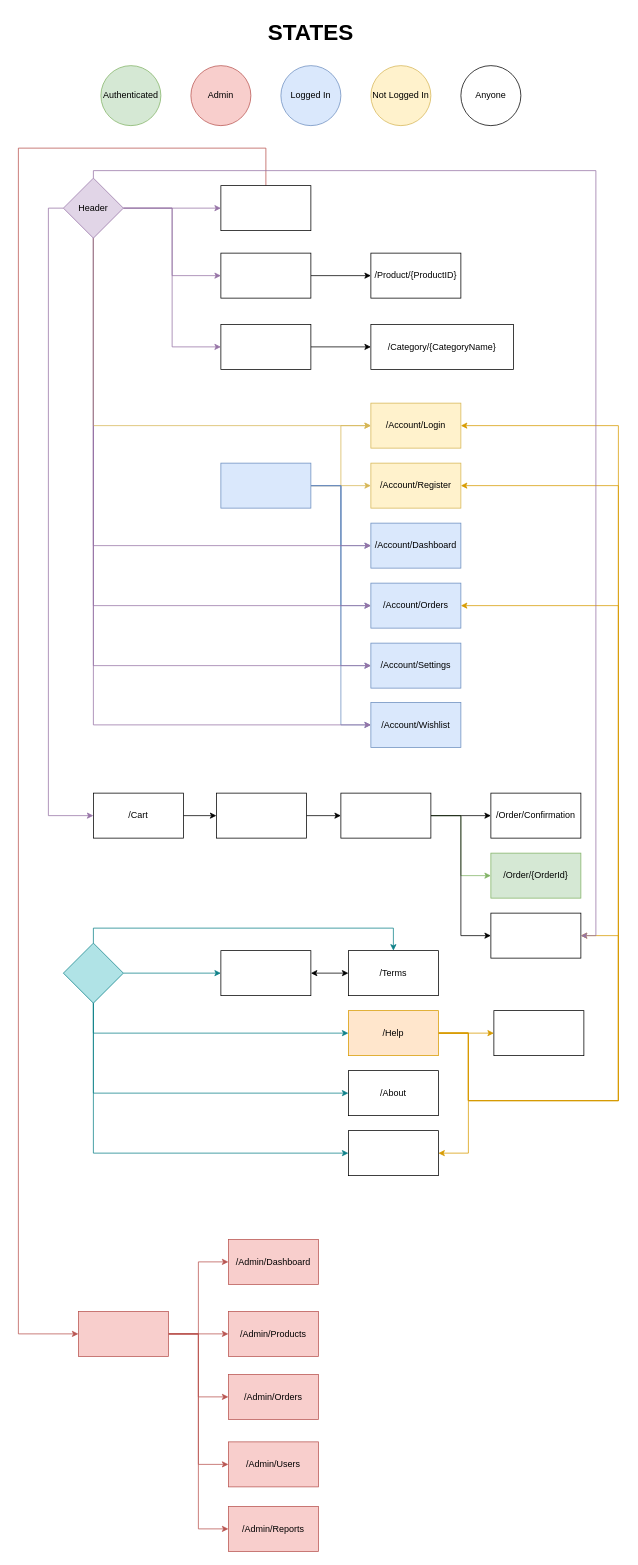
This 638x1565 diagram has some shape labels left out. The centre of each missing label's shape, as x and y in pixels:
"/Account" goes at [265,485].
"/Admin" goes at [123,1333].
"/Categories" goes at [265,346].
"/Checkout" goes at [261,815].
"/Contact" goes at [393,1153].
"/Home" goes at [265,208].
"/Order" goes at [385,815].
"/Order/Track/{orderID}" goes at [535,935].
"/Privacy-Policy" goes at [265,973].
"/Products" goes at [265,275].
"/Search" goes at [538,1033].
"Footer" goes at [93,972].
